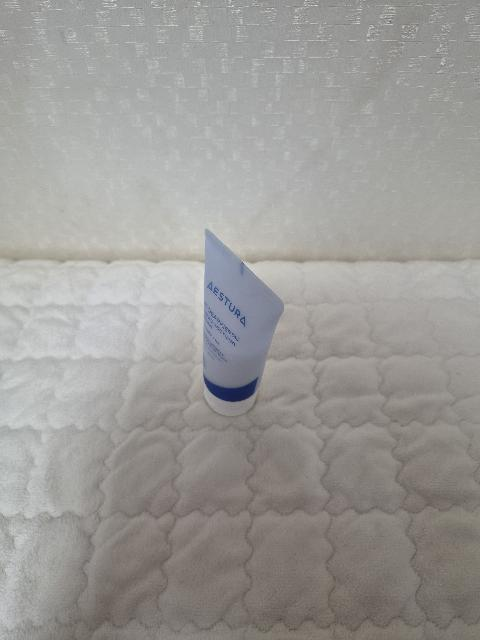handcream: (203, 228, 285, 416)
